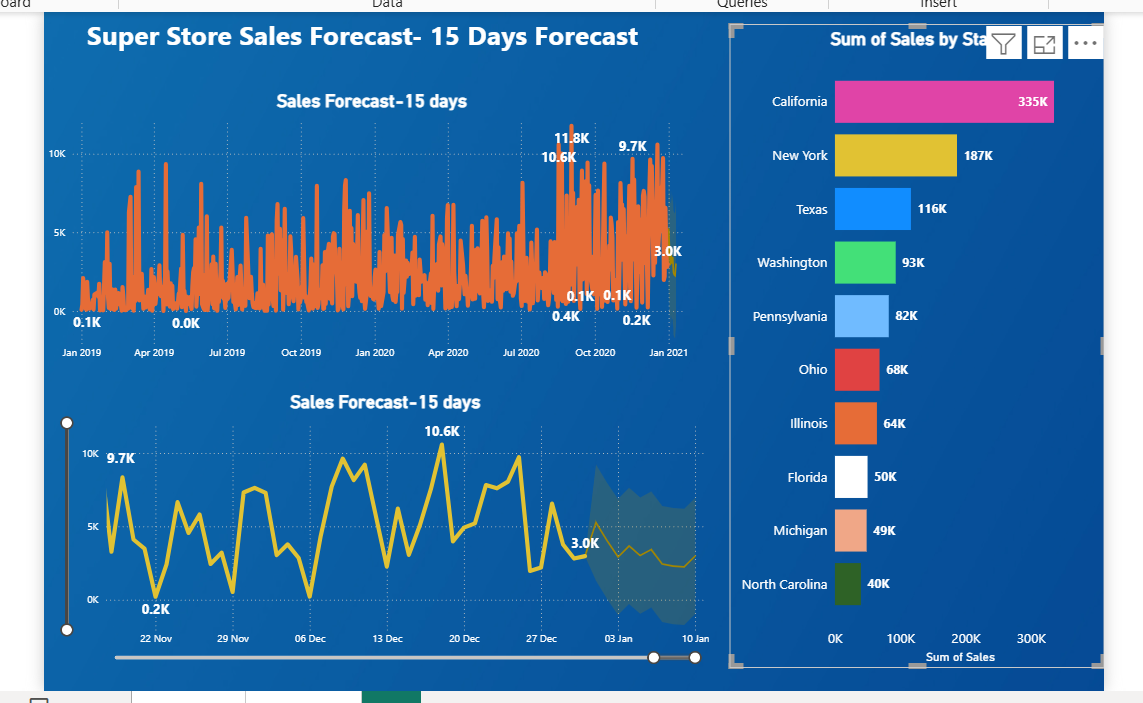

What the dashboard file says about the page in this screenshot:
{"tool":"powerbi","page":{"name":"Page 2","canvas":[1280,820],"ordinal":1},"visuals":[{"type":"lineChart","title":"Sales  Forecast-15 days","fields":{"Y":["Sum(SuperStore_Sales_Dataset.Sales)"],"Category":["SuperStore_Sales_Dataset.Order Date"]},"box":[0,94.5,791.8,334.5],"z":0},{"type":"clusteredBarChart","fields":{"Category":["SuperStore_Sales_Dataset.State"],"Y":["Sum(SuperStore_Sales_Dataset.Sales)"]},"box":[827.7,15.1,453.5,776.7],"z":1000},{"type":"textbox","box":[17,0,737,73.7],"z":2000},{"type":"lineChart","title":"Sales  Forecast-15 days","fields":{"Y":["Sum(SuperStore_Sales_Dataset.Sales)"],"Category":["SuperStore_Sales_Dataset.Order Date"]},"box":[17,459.2,791.8,332.6],"z":3000}]}

Visuals, with their boxes on the page's 1280x820 design canvas (x1, y1, x2, y2). These are canvas units, not pixel positions in the 1143x703 screenshot, which may show the page scaled, cropped or inside an application window:
"Sales  Forecast-15 days" lineChart: [0,94,792,429]
clusteredBarChart - SuperStore_Sales_Dataset.State x Sum(SuperStore_Sales_Dataset.Sales): [828,15,1281,792]
textbox: [17,0,754,74]
"Sales  Forecast-15 days" lineChart: [17,459,809,792]
